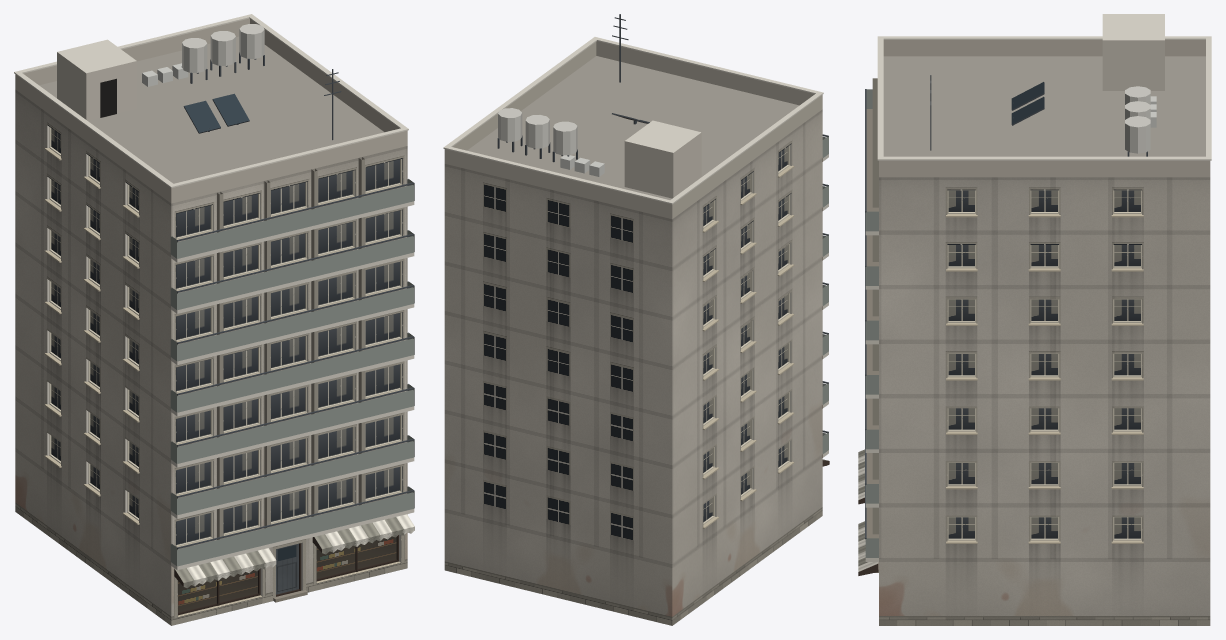
The model's file is hero_res_late_c.glb.
3 views of the same model, side by side, from view 1: azimuth 30°, elevation 25°; view 2: azimuth 150°, elevation 25°; view 3: azimuth 270°, elevation 25° (orthographic). The views are drawn at different scales.
Visible parts, largest first — view 1: bld_hero_res_late_c; view 2: bld_hero_res_late_c; view 3: bld_hero_res_late_c.
Part boxes in pixels (<box>): bld_hero_res_late_c: <box>14,14,414,625</box>; bld_hero_res_late_c: <box>443,14,829,625</box>; bld_hero_res_late_c: <box>858,14,1211,625</box>.
Bounding box in the file's own units: 14.24 × 27.93 × 17.06.
1 material, 1 textured.
